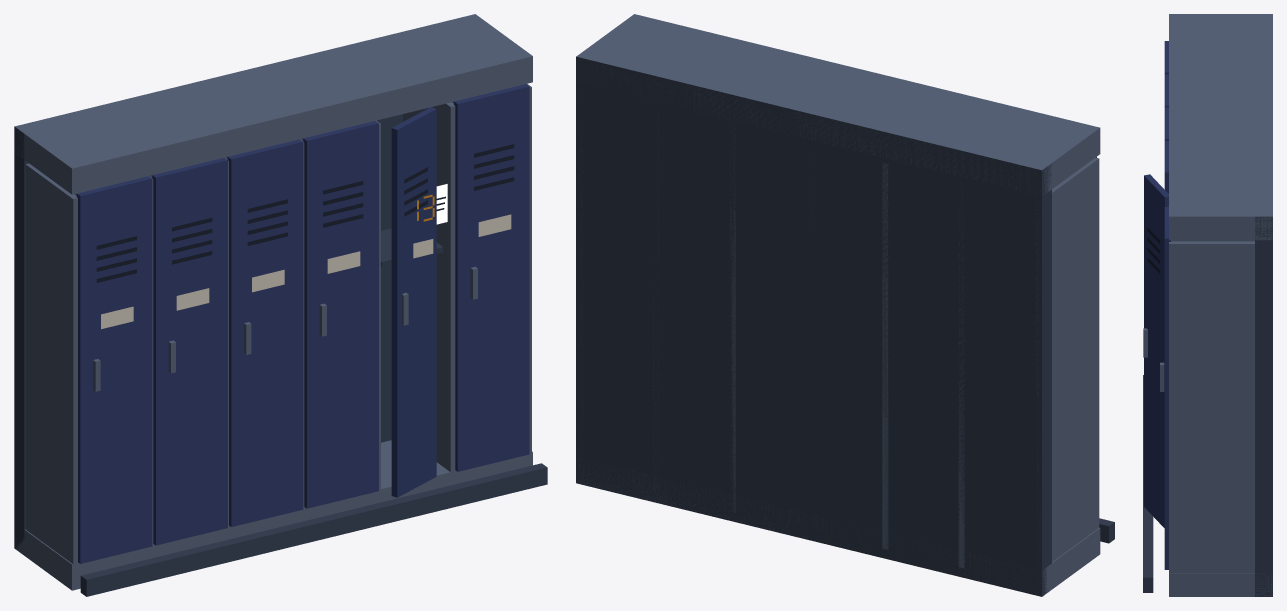
Rendered from lab_locker_bank.glb.
The picture shows the model from 3 angles, left to right: view 1: azimuth 30°, elevation 25°; view 2: azimuth 150°, elevation 25°; view 3: azimuth 270°, elevation 25°; orthographic projection. The views are drawn at different scales.
Parts seen in each view (by area): view 1: locker_door, cap, back, handwriting, print; view 2: back, cap; view 3: cap, locker_door, back, handwriting.
Boxes of the visible parts, <box> form: locker_door: <box>76,84,529,563</box>; cap: <box>14,14,532,590</box>; back: <box>14,101,547,596</box>; handwriting: <box>96,144,514,282</box>; print: <box>101,214,511,329</box>; back: <box>576,56,1114,596</box>; cap: <box>576,14,1100,594</box>; cap: <box>1143,14,1272,596</box>; locker_door: <box>1144,41,1170,569</box>; back: <box>1143,216,1272,596</box>; handwriting: <box>1147,227,1160,273</box>.
Size of the model in its own units: 2.4 by 2.1 by 0.65.
